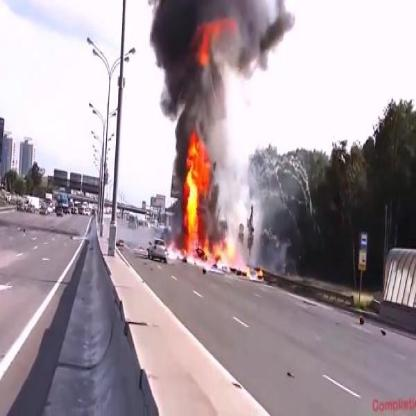fire: (181, 128, 214, 268), (197, 13, 236, 66), (216, 233, 236, 267), (246, 268, 266, 278)
